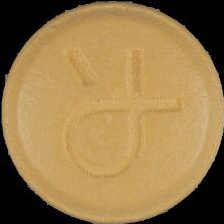61919-838: (0, 0, 224, 224)
